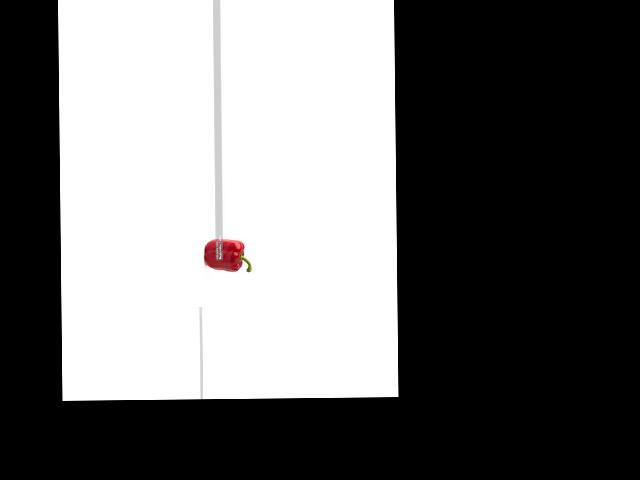bell_pepper: (205, 236, 254, 277)
